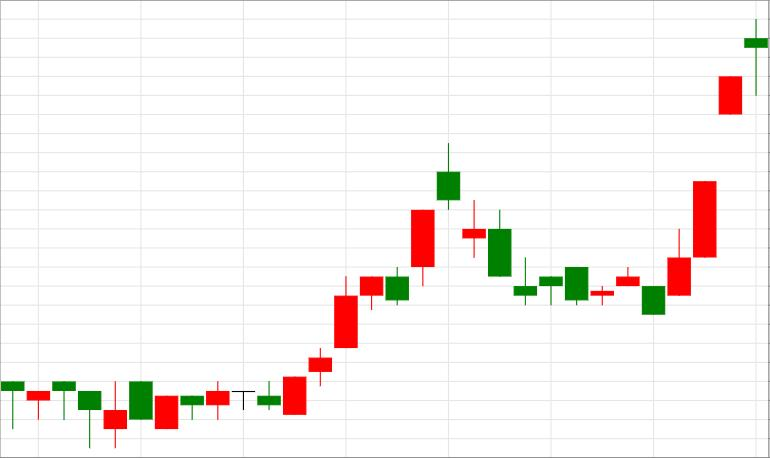shooting_star_fall: (284, 145, 461, 416)
